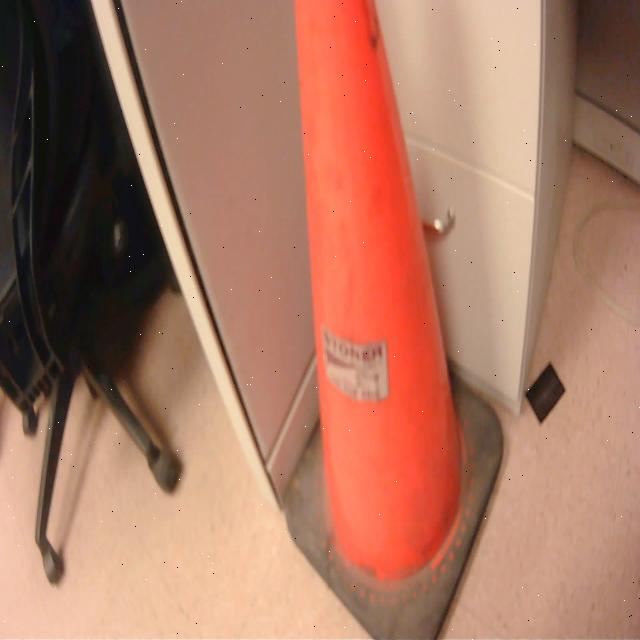traffic cone: (274, 1, 514, 640)
